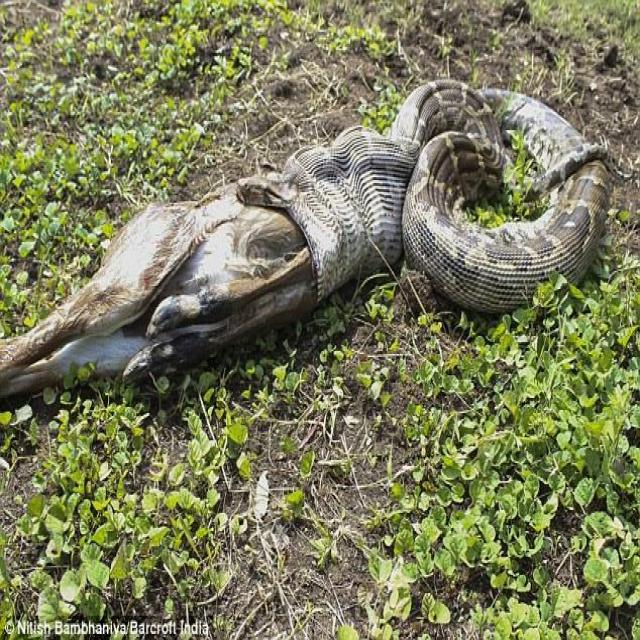Snake: (0, 76, 631, 400)
